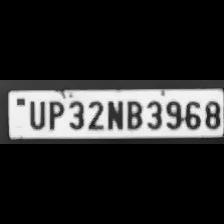2: (86, 97, 104, 130)
3: (64, 97, 84, 130), (144, 97, 162, 130)
6: (181, 98, 201, 130)
8: (200, 97, 222, 129)
9: (164, 97, 182, 130)
B: (123, 97, 143, 130)
N: (104, 97, 122, 131)
P: (44, 98, 64, 130)
U: (24, 98, 46, 130)
